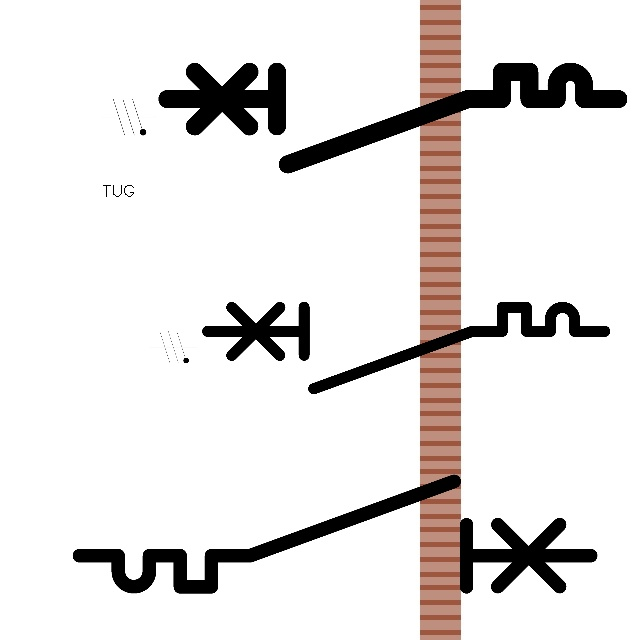interruptor_termomagnetico: (66, 468, 604, 600), (155, 60, 630, 176), (197, 297, 615, 399)
